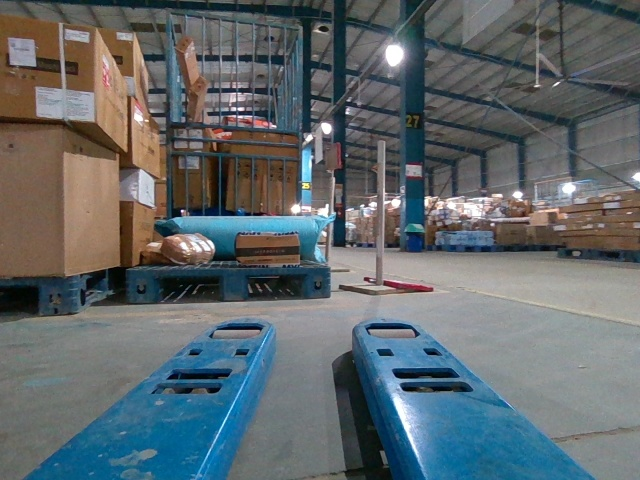block: (36, 276, 77, 316), (125, 268, 156, 302), (304, 262, 334, 296), (220, 268, 249, 302)
front: (125, 266, 330, 300)
hole pallet: (149, 268, 223, 302), (242, 265, 314, 297)
